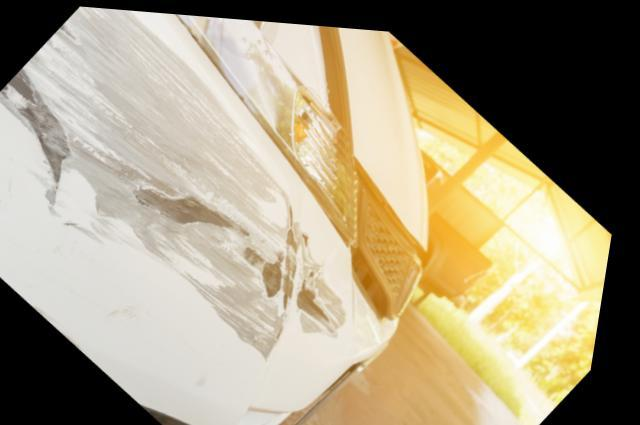scratch: (0, 5, 364, 355)
